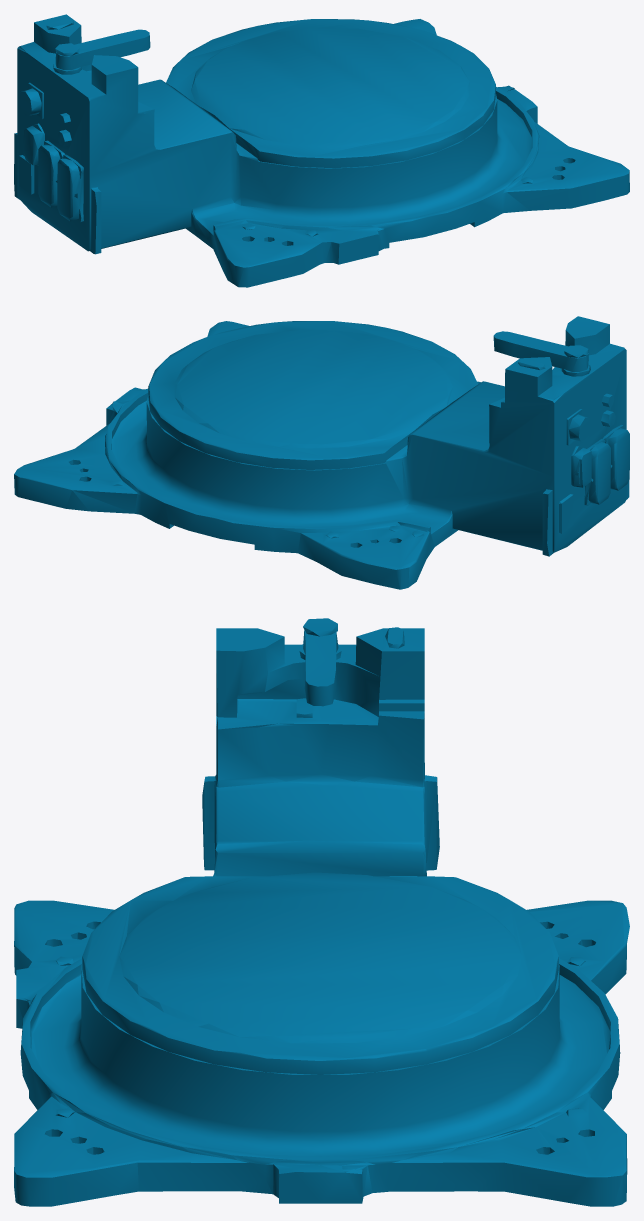
3 renders of one model, top to bottom at view 1: azimuth 30°, elevation 25°; view 2: azimuth 150°, elevation 25°; view 3: azimuth 270°, elevation 25°, orthographic. The views are drawn at different scales.
Visible parts, largest first — view 1: mh00400-j00_lk0; view 2: mh00400-j00_lk0; view 3: mh00400-j00_lk0.
Boxes of the visible parts, x1=… form: mh00400-j00_lk0: x1=14, y1=14, x2=629, y2=287; mh00400-j00_lk0: x1=14, y1=316, x2=629, y2=589; mh00400-j00_lk0: x1=14, y1=618, x2=629, y2=1206.
Size of the model in its own units: 0.9694 by 0.7393 by 0.3458.
